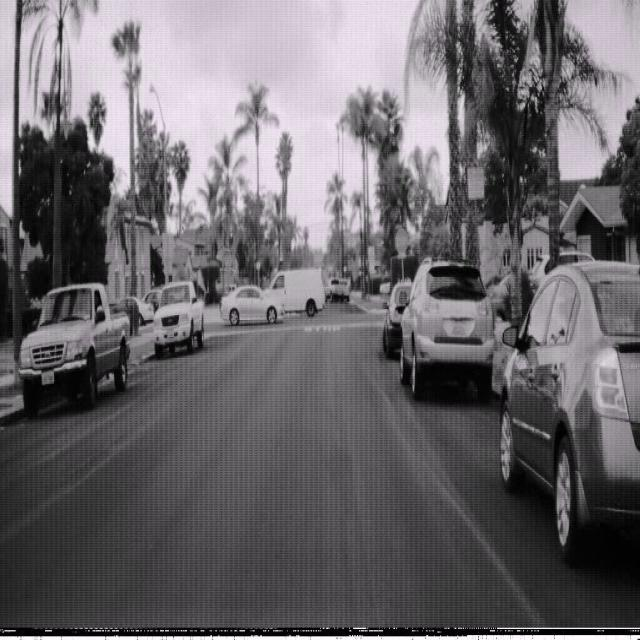stop_sign: (394, 227, 409, 255)
